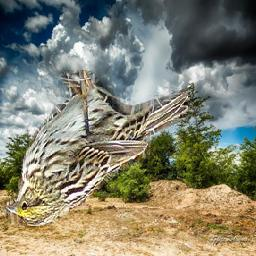Sparrow: (2, 70, 191, 226)
